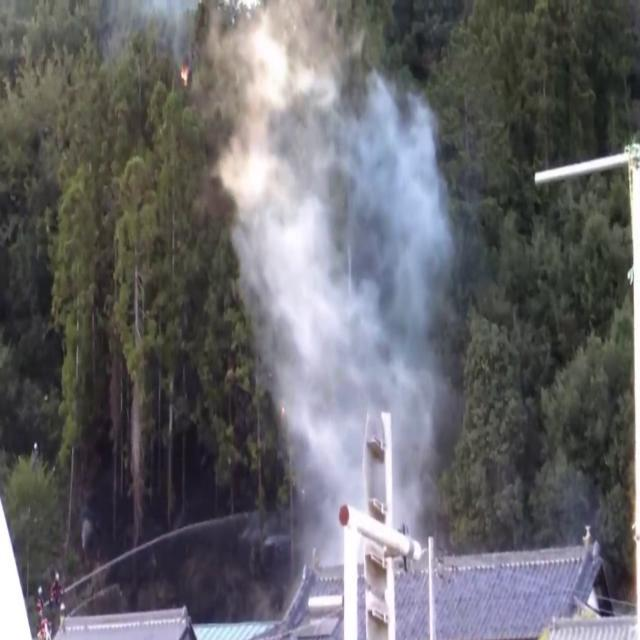Smoke: (208, 2, 462, 500)
